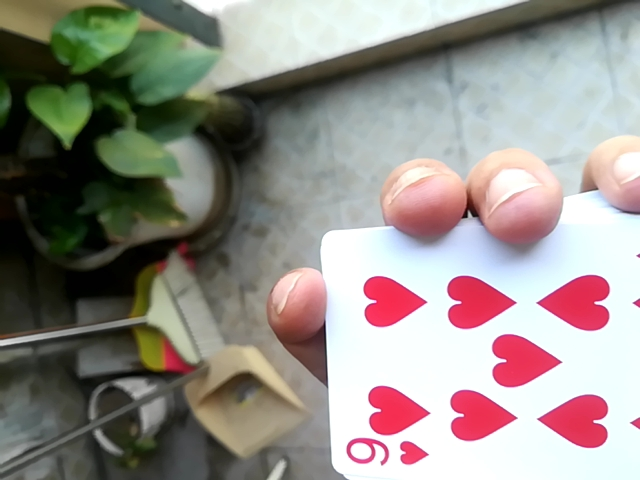hx 9: (304, 153, 640, 475)
